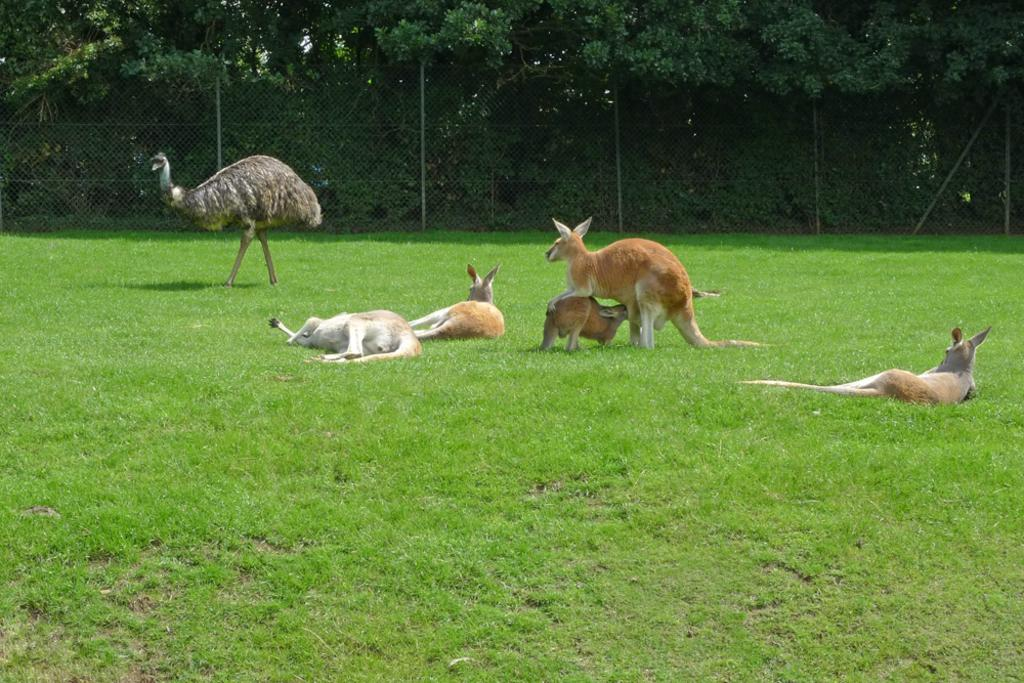kangaroo: (540, 218, 771, 347), (735, 322, 991, 408), (406, 260, 506, 340), (271, 312, 423, 364), (542, 292, 626, 353)
